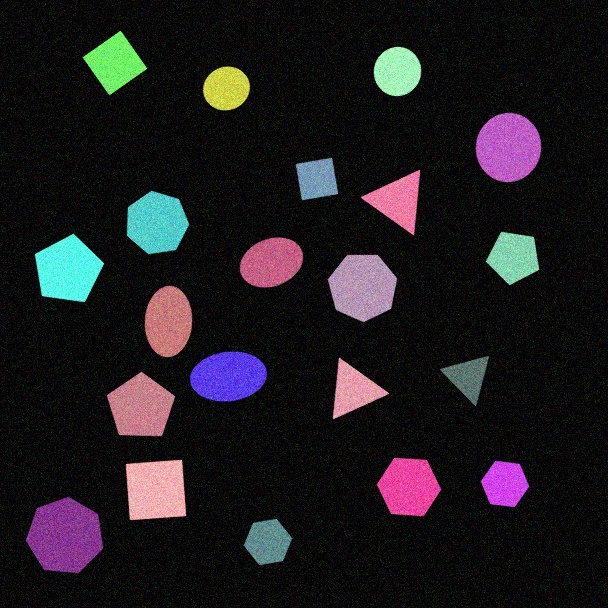Circulo: (475, 112, 542, 183), (373, 46, 422, 97), (202, 66, 251, 111)
Elipse: (189, 351, 268, 402), (144, 285, 193, 358), (239, 237, 304, 288)
Heptagono: (25, 496, 104, 574), (327, 254, 398, 323), (126, 190, 190, 255)
Hexagono: (376, 457, 442, 517), (480, 460, 530, 508), (243, 518, 293, 566)
Pentagono: (34, 233, 105, 303), (106, 371, 176, 437), (485, 231, 540, 286)
Quadrado: (82, 30, 148, 96), (125, 459, 187, 521), (295, 157, 339, 201)
Triangulo: (361, 169, 421, 236), (332, 357, 390, 420), (439, 355, 490, 407)
